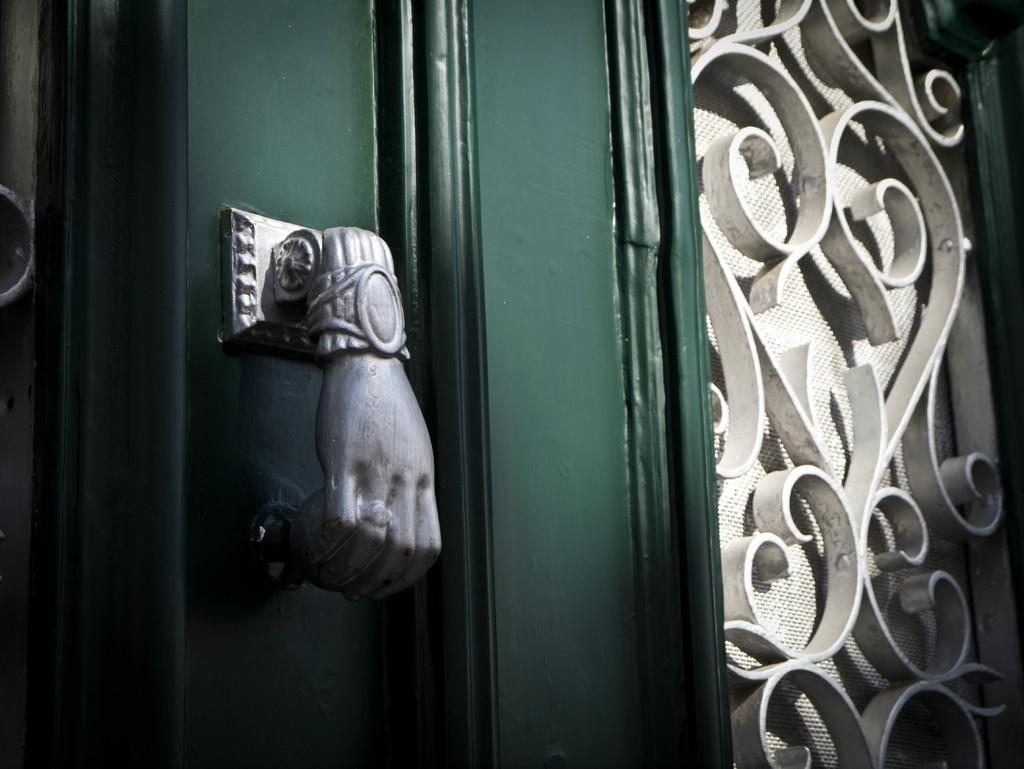handle: (290, 450, 422, 596)
